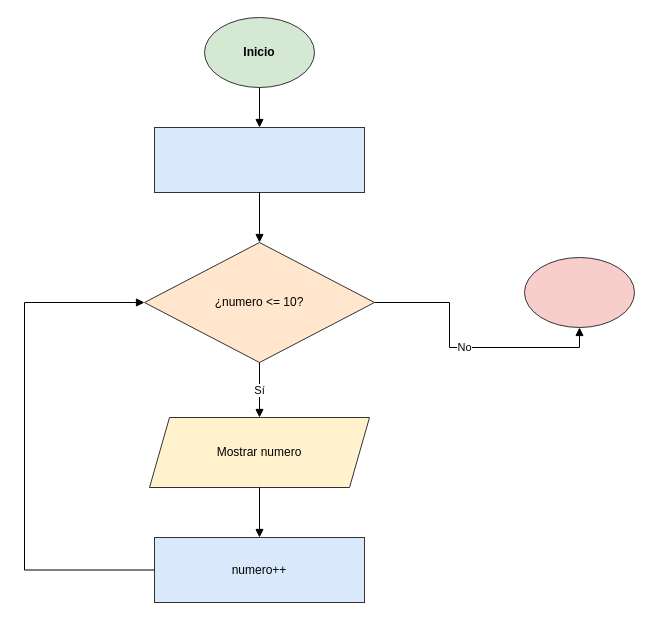
Some shapes in this 652 by 620 pixel diagram are drawn without their labels. The centre of each missing label's shape, as x and y in pixels:
"Fin" belongs at point 579,292.
"numero = 1" belongs at point 259,159.
